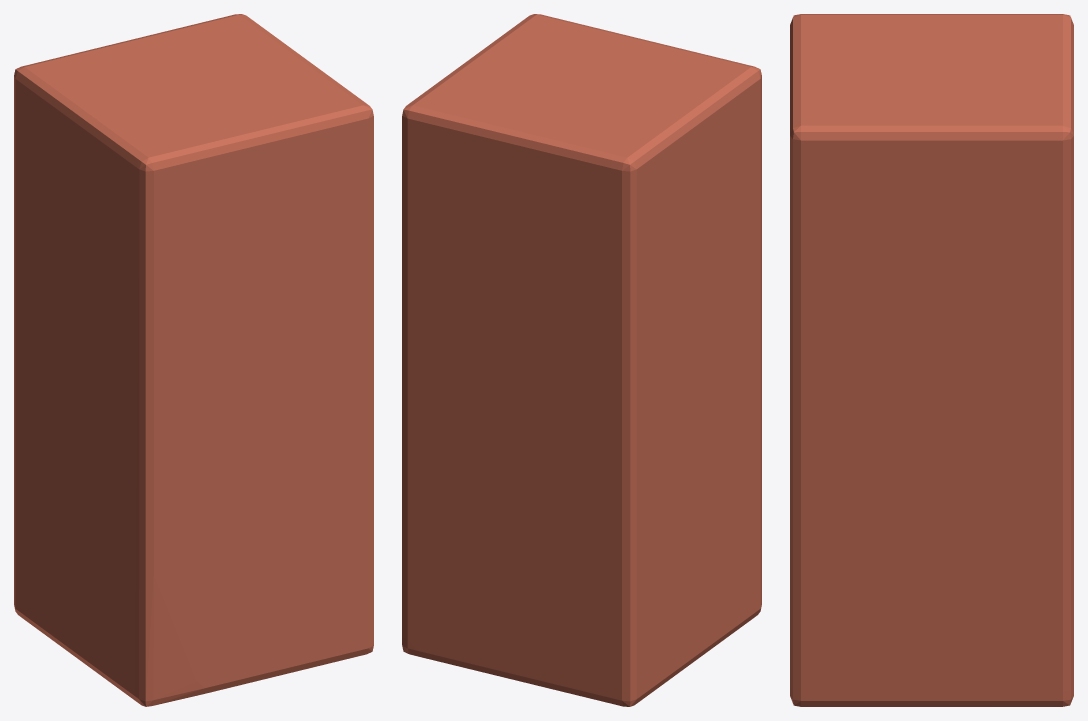
File: left_hip_roll_link_part_9.obj
3 views of the same model, side by side, from view 1: azimuth 30°, elevation 25°; view 2: azimuth 150°, elevation 25°; view 3: azimuth 270°, elevation 25° (orthographic). The views are drawn at different scales.
Size of the model in its own units: 0.0335 by 0.0752 by 0.0334.
